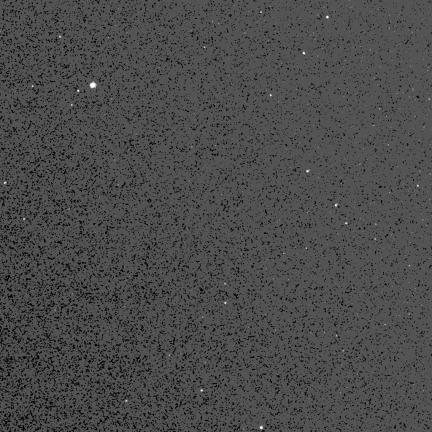blob: (90, 82, 96, 88), (326, 16, 330, 19), (335, 204, 339, 207), (307, 170, 311, 173), (201, 389, 204, 392), (4, 182, 7, 185), (77, 90, 80, 93), (59, 36, 62, 39), (303, 52, 306, 55), (260, 426, 263, 429), (270, 95, 273, 97), (71, 104, 73, 106)
